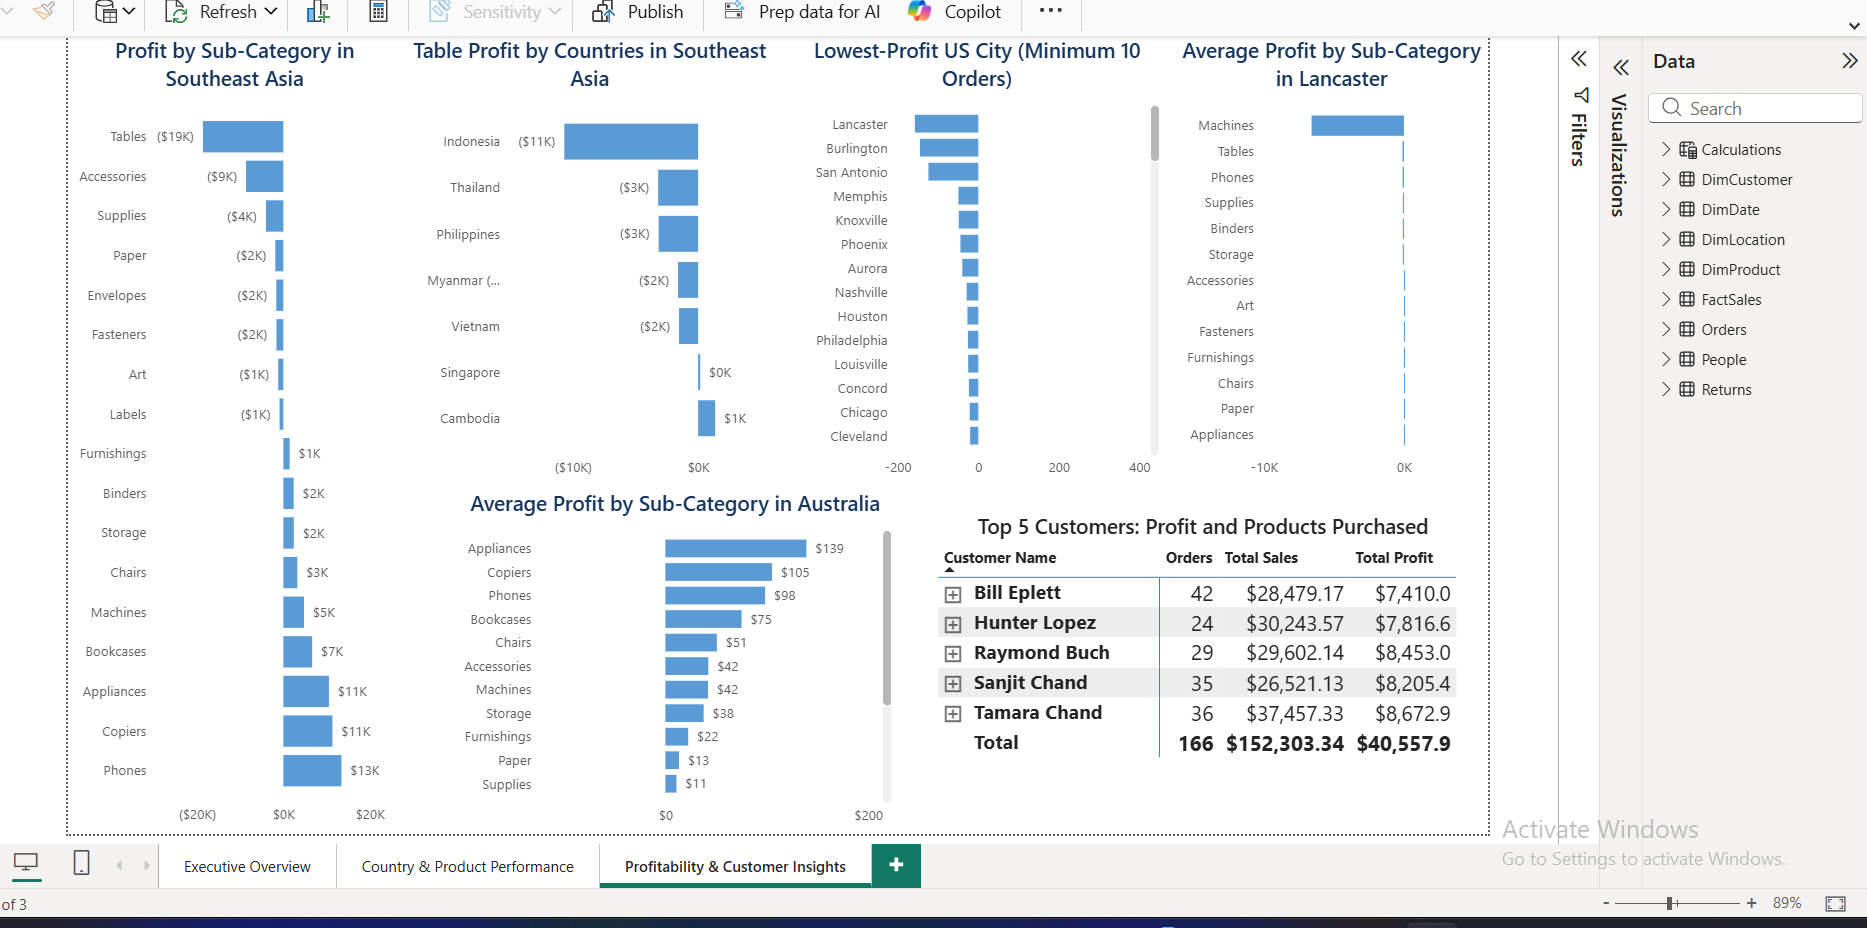

The dashboard page shown, as its layout file describes it:
{"tool":"powerbi","page":{"name":"Profitability & Customer Insights","canvas":[1280,720],"ordinal":2},"visuals":[{"type":"clusteredBarChart","title":"Profit by Sub-Category in Southeast Asia","fields":{"Y":["Calculations.Total Profit"],"Category":["DimProduct.Sub-Category"]},"box":[0,0,300.5,720.4],"z":0},{"type":"clusteredBarChart","title":"Table Profit by Countries in Southeast Asia","fields":{"Category":["DimLocation.Country"],"Y":["Calculations.Total Profit"]},"box":[300.5,0,338.9,407.5],"z":1000},{"type":"clusteredBarChart","title":"Lowest-Profit US City (Minimum 10 Orders)","fields":{"Category":["DimLocation.City"],"Y":["Avg(FactSales.Profit)"]},"box":[650.4,0,338.9,407.5],"z":2000},{"type":"clusteredBarChart","title":"Average Profit by Sub-Category in Lancaster","fields":{"Category":["DimProduct.Sub-Category"],"Y":["Avg(FactSales.Profit)"]},"box":[999,0,281.3,407.5],"z":3000},{"type":"clusteredBarChart","title":"Average Profit by Sub-Category in Australia","fields":{"Category":["DimProduct.Sub-Category"],"Y":["Calculations.Average Profit"]},"box":[347.2,407.5,400.7,312.9],"z":4000},{"type":"pivotTable","title":"Top 5 Customers: Profit and Products Purchased","fields":{"Rows":["DimCustomer.Customer Name","DimProduct.Product Name"],"Values":["Calculations.Orders","Calculations.Total Sales","Calculations.Total Profit"]},"box":[779.4,429.5,487.1,267.6],"z":5000}]}

Visuals, with their boxes on the page's 1280x720 design canvas (x1, y1, x2, y2). These are canvas units, not pixel positions in the 1867x928 screenshot, which may show the page scaled, cropped or inside an application window:
"Profit by Sub-Category in Southeast Asia" clusteredBarChart: locate(0, 0, 300, 720)
"Table Profit by Countries in Southeast Asia" clusteredBarChart: locate(300, 0, 639, 408)
"Lowest-Profit US City (Minimum 10 Orders)" clusteredBarChart: locate(650, 0, 989, 408)
"Average Profit by Sub-Category in Lancaster" clusteredBarChart: locate(999, 0, 1280, 408)
"Average Profit by Sub-Category in Australia" clusteredBarChart: locate(347, 408, 748, 720)
"Top 5 Customers: Profit and Products Purchased" pivotTable: locate(779, 430, 1266, 697)
